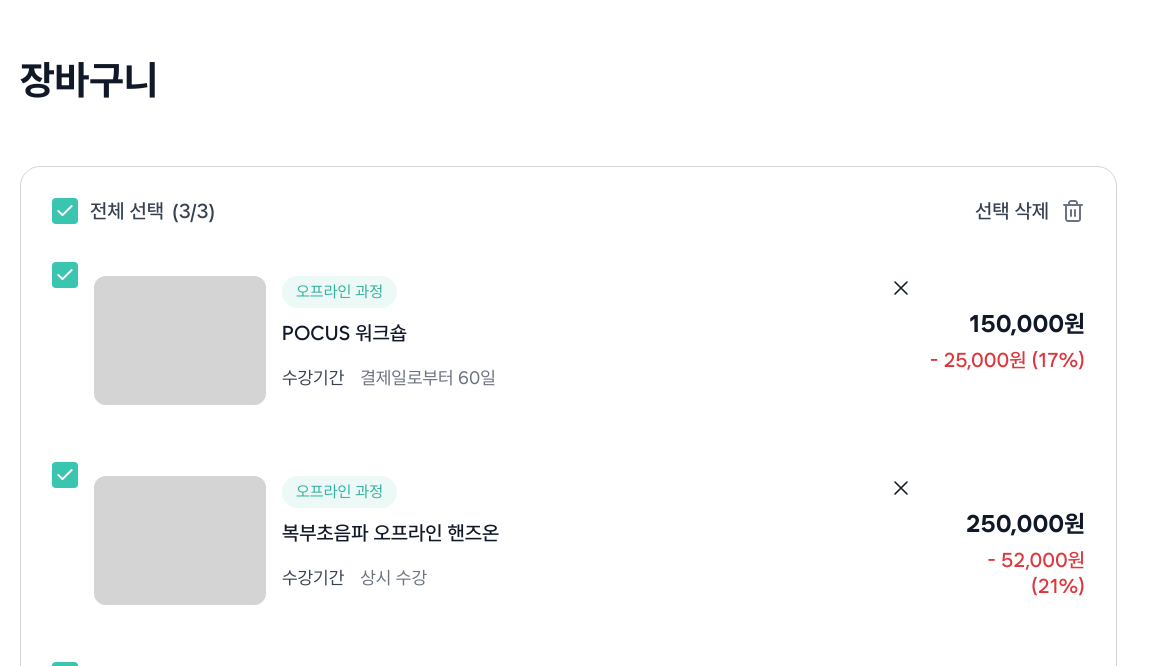
Test case: CartPage › removes a cart item when the delete action is clicked
expect the text "POCUS 워크숍" is shown: met, box [282,321,407,345]
Click the button named "POCUS 워크숍 삭제" at (901, 288), box [889,276,913,300]
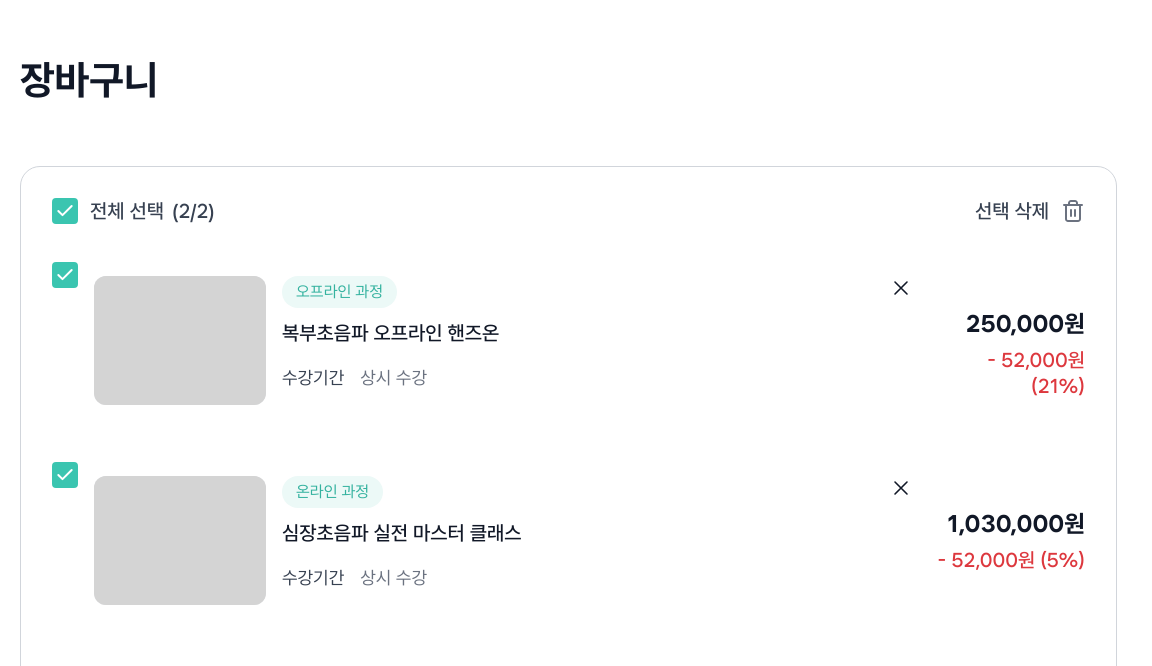
expect the text "심장초음파 실전 마스터 클래스" is shown: met, box [282,521,522,545]
expect the link "POCUS 워크숍" is gone: met
